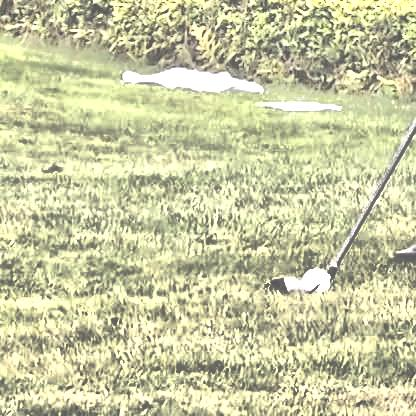golfball: (302, 269, 326, 293)
